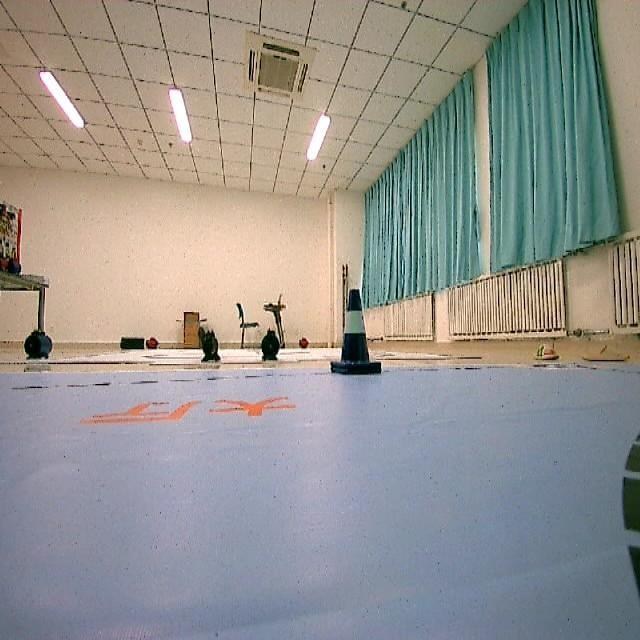obstacle: (325, 284, 383, 384)
